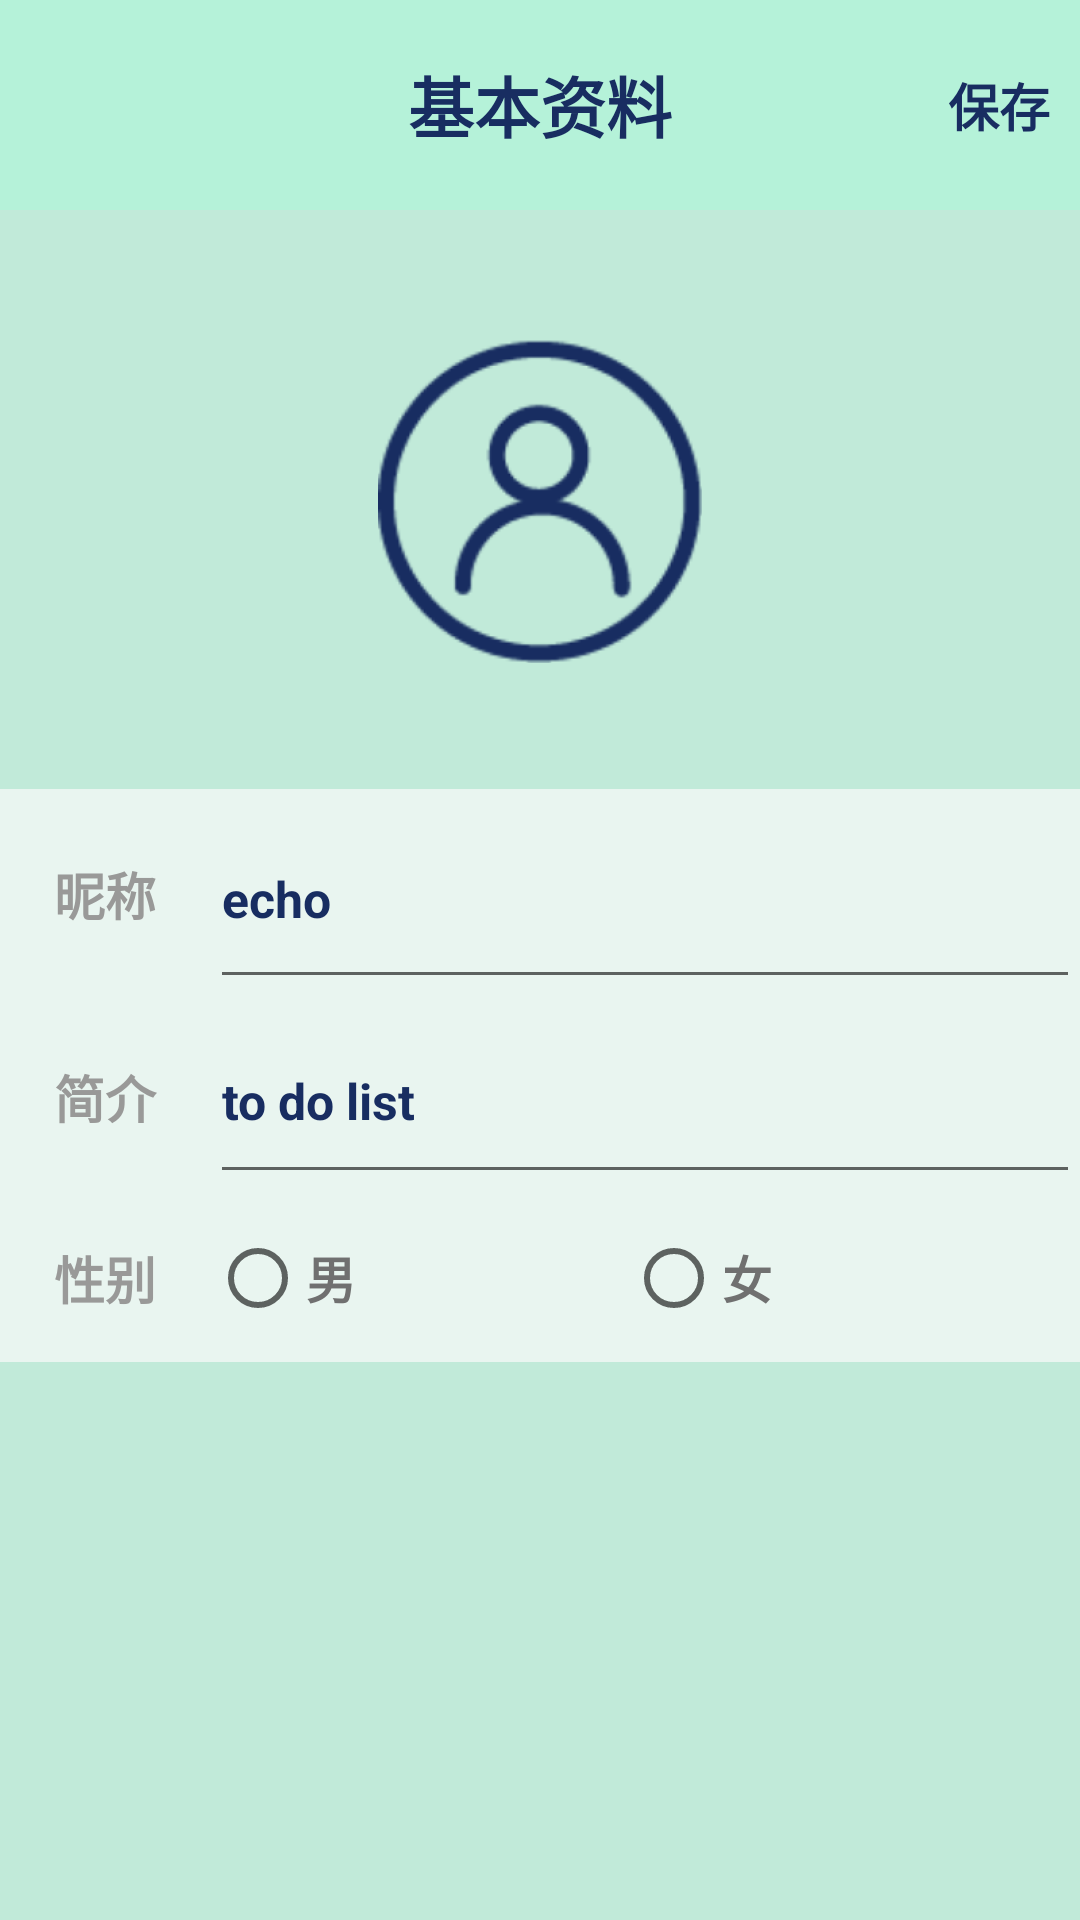

Icons on this 1080×1920 Android screen, each with the point to tap as [x,y]:
data head: [540,501]
